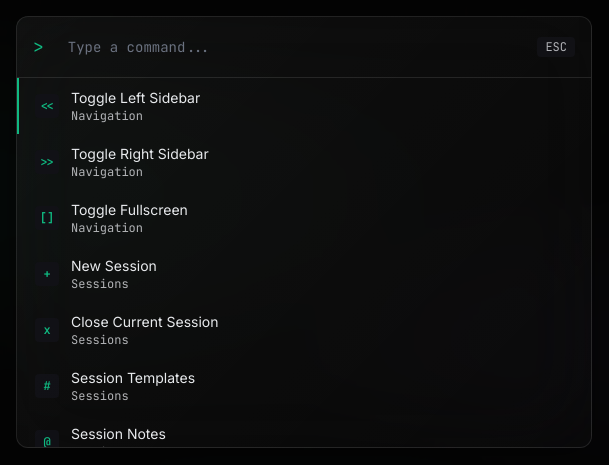
CommandPalette › filtering › should filter commands based on search query
Type "sidebar" into the field with placeholder "Type a command..." at (291, 47), box left=56, top=29, right=525, bottom=65
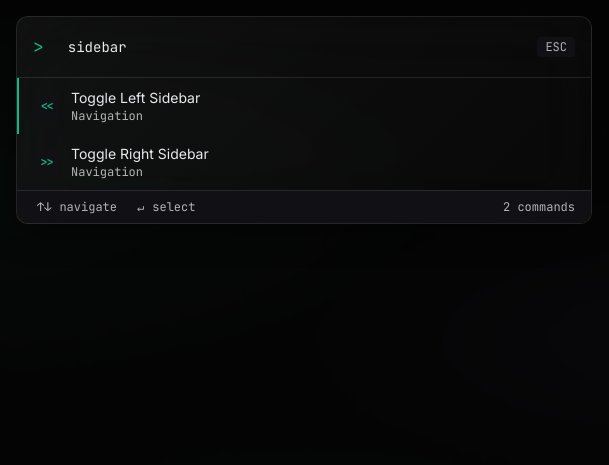
Expected: the text "Toggle Left Sidebar" is shown, left=71, top=89, right=200, bottom=106
Expected: the button "New Session" is gone
